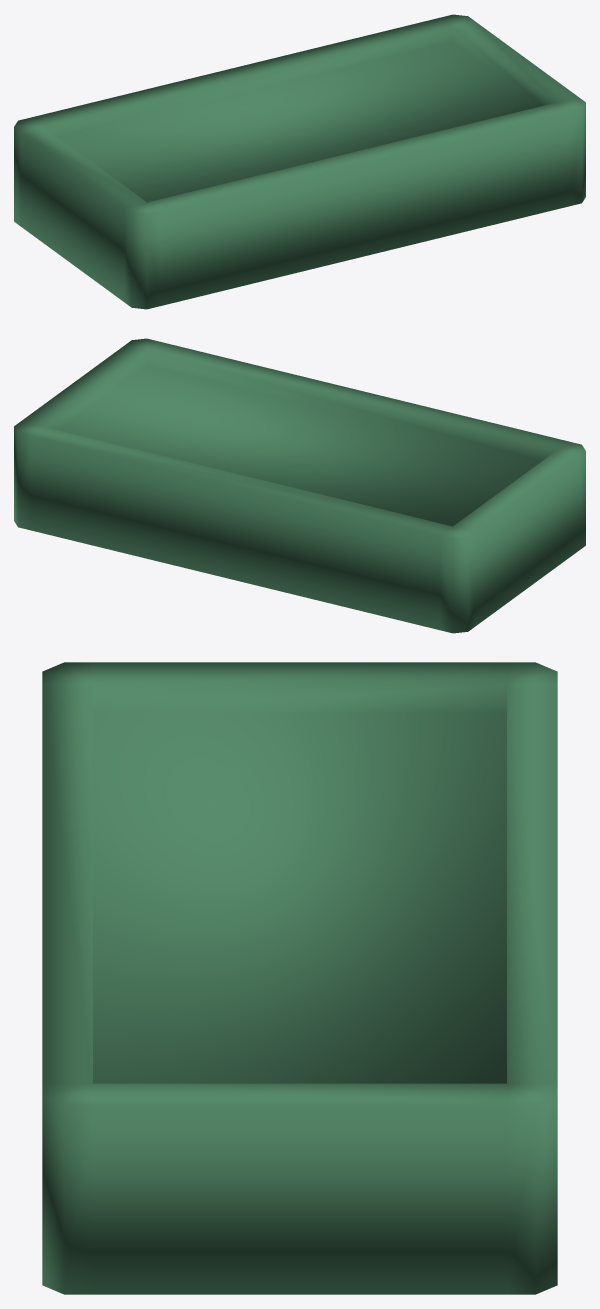
File: S_Potager.glb
The picture shows the model from 3 angles, top to bottom: view 1: azimuth 30°, elevation 25°; view 2: azimuth 150°, elevation 25°; view 3: azimuth 270°, elevation 25°; orthographic projection. The views are drawn at different scales.
Parts seen in each view (by area): view 1: S_Potager_low; view 2: S_Potager_low; view 3: S_Potager_low.
Boxes of the visible parts, left/top/right/bottom form: S_Potager_low: left=14, top=14, right=585, bottom=309; S_Potager_low: left=14, top=338, right=585, bottom=633; S_Potager_low: left=42, top=662, right=557, bottom=1294.
Size of the model in its own units: 2 by 0.3978 by 0.9822.
